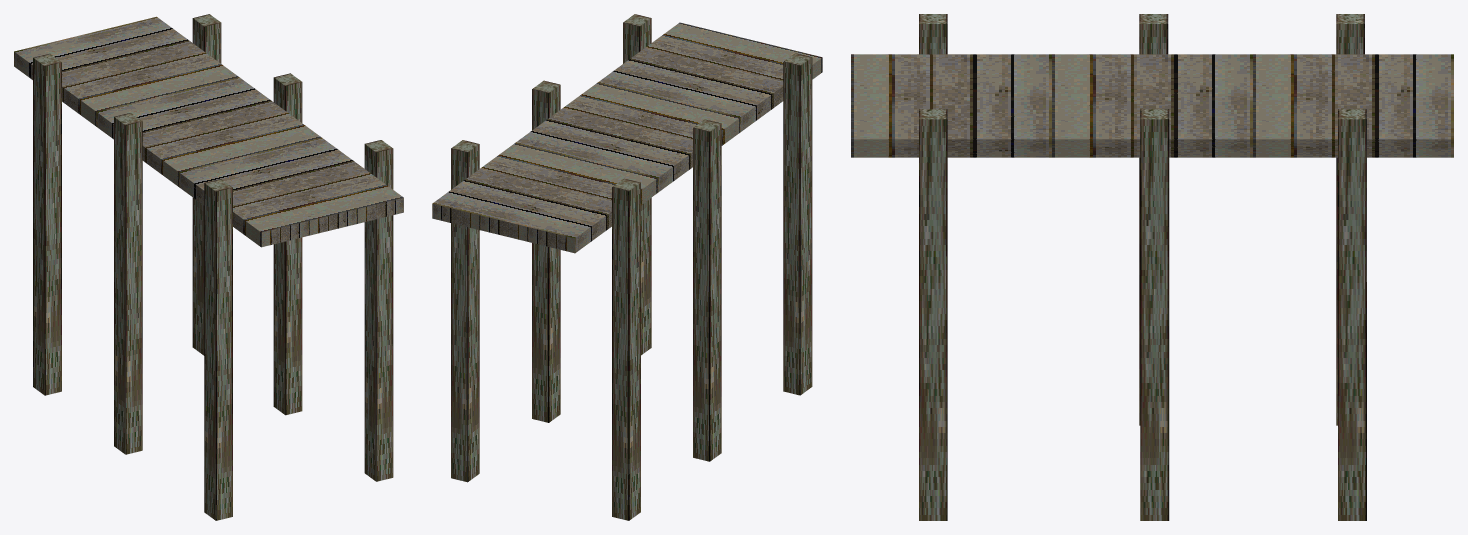
Rendered from KDock.fbx.
3 views of the same model, side by side, from view 1: azimuth 30°, elevation 25°; view 2: azimuth 150°, elevation 25°; view 3: azimuth 270°, elevation 25° (orthographic). The views are drawn at different scales.
Parts seen in each view (by area): view 1: KDOCK; view 2: KDOCK; view 3: KDOCK.
Boxes of the visible parts, box(x1,y1,x2,y2) form: KDOCK: box(14, 14, 403, 520); KDOCK: box(432, 14, 822, 520); KDOCK: box(851, 14, 1453, 520).
Size of the model in its own units: 24.83 by 44.09 by 60.
